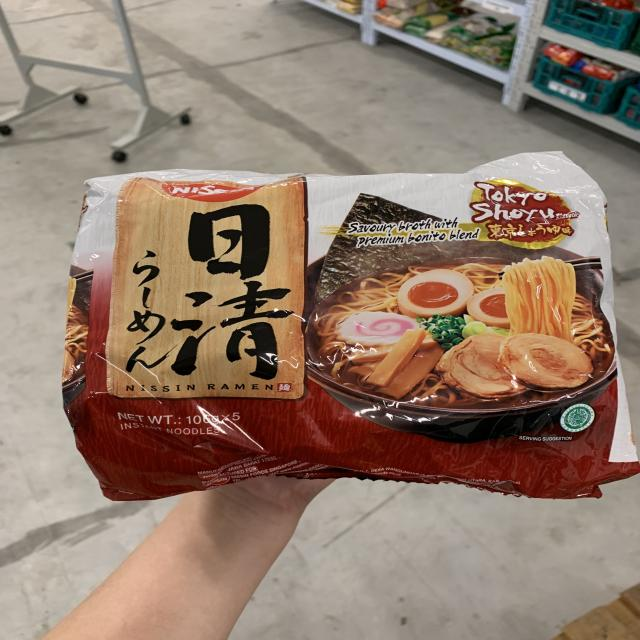object_name: (89, 181, 612, 473)
